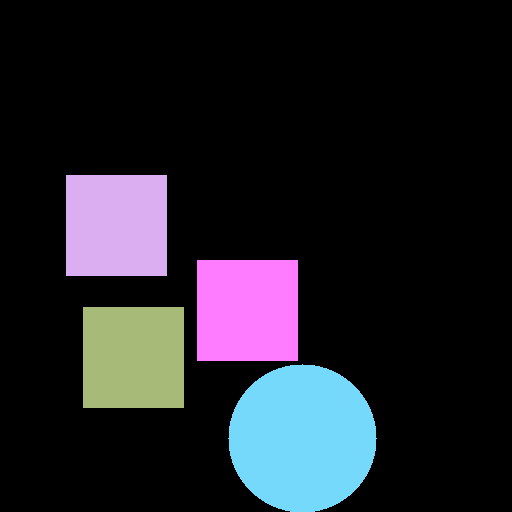circle: (229, 365, 375, 511)
square: (83, 307, 183, 407), (197, 260, 297, 360), (66, 175, 166, 275)
